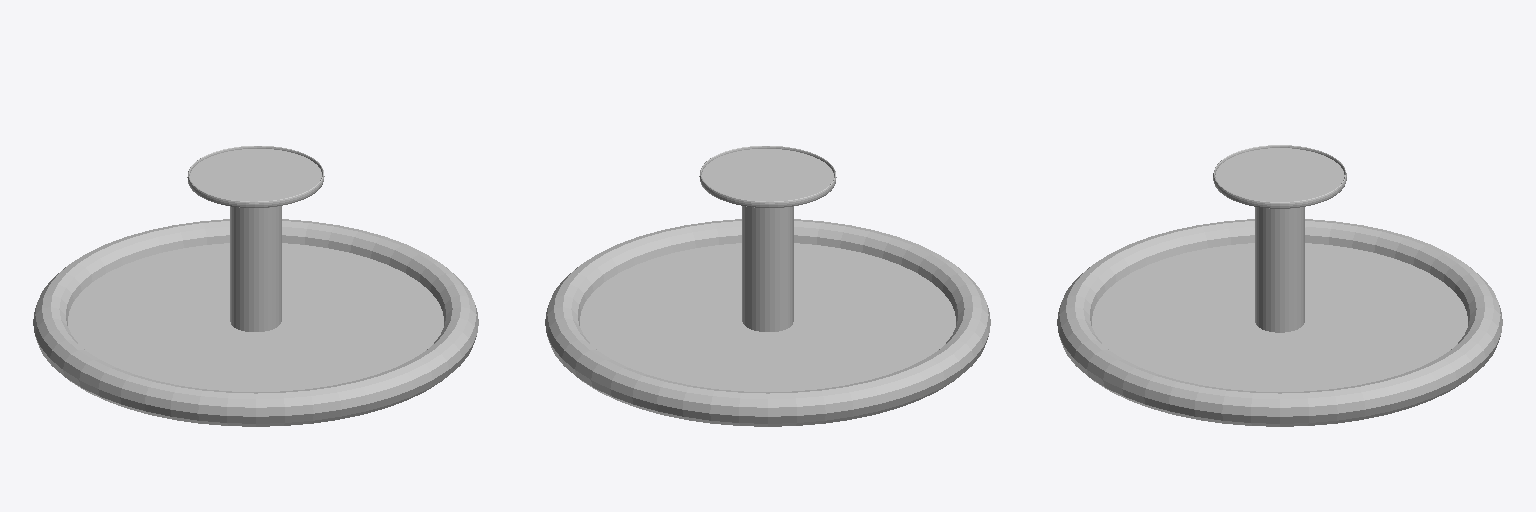
File: Fountain.obj
3 renders of one model, left to right at view 1: azimuth 30°, elevation 25°; view 2: azimuth 150°, elevation 25°; view 3: azimuth 270°, elevation 25°, orthographic.
Visible parts, largest first — view 1: Cylinder, Torus, Cylinder.001_Cylinder.002, Cylinder.002_Cylinder.003, Torus.001; view 2: Cylinder, Torus, Cylinder.001_Cylinder.002, Cylinder.002_Cylinder.003, Torus.001; view 3: Cylinder, Torus, Cylinder.001_Cylinder.002, Cylinder.002_Cylinder.003, Torus.001.
Boxes of the visible parts, x1=… form: Cylinder: x1=68, y1=243, x2=443, y2=391; Torus: x1=33, y1=219, x2=478, y2=426; Cylinder.001_Cylinder.002: x1=230, y1=206, x2=281, y2=331; Cylinder.002_Cylinder.003: x1=190, y1=149, x2=321, y2=201; Torus.001: x1=187, y1=146, x2=324, y2=207; Cylinder: x1=580, y1=243, x2=955, y2=391; Torus: x1=545, y1=219, x2=990, y2=426; Cylinder.001_Cylinder.002: x1=742, y1=206, x2=793, y2=331; Cylinder.002_Cylinder.003: x1=702, y1=149, x2=833, y2=201; Torus.001: x1=699, y1=146, x2=836, y2=207; Cylinder: x1=1092, y1=243, x2=1467, y2=391; Torus: x1=1057, y1=219, x2=1502, y2=426; Cylinder.001_Cylinder.002: x1=1255, y1=207, x2=1304, y2=332; Cylinder.002_Cylinder.003: x1=1215, y1=148, x2=1344, y2=201; Torus.001: x1=1213, y1=145, x2=1346, y2=208.
Bounding box in the file's own units: 2.17 × 0.8841 × 2.17.